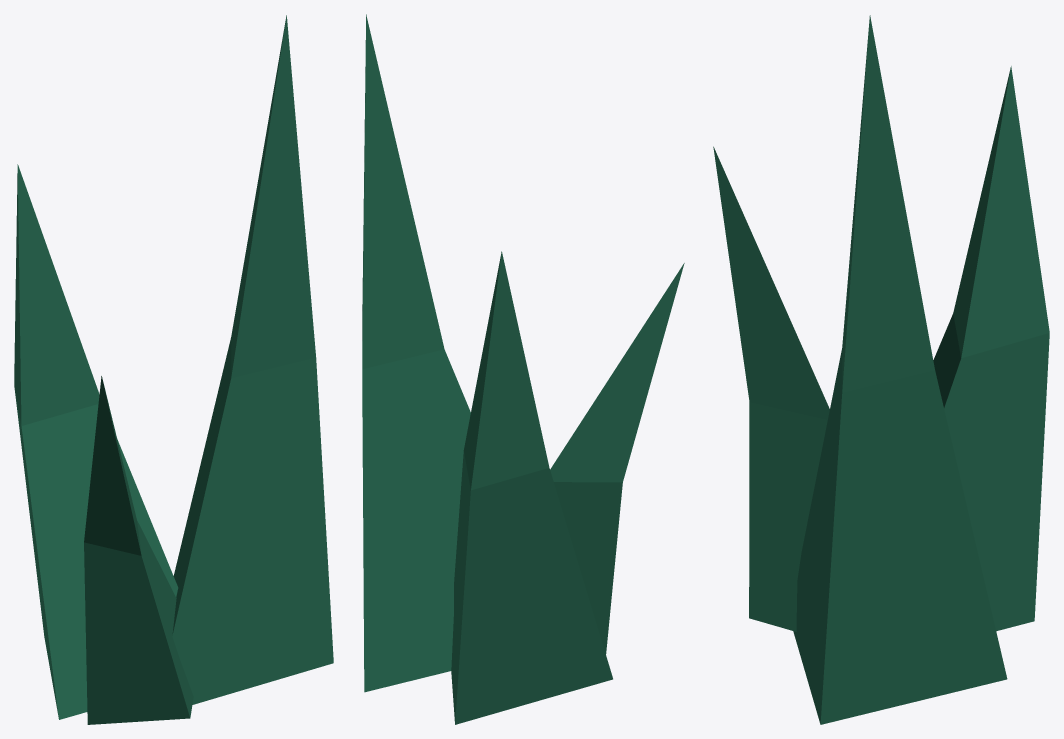
The model's file is PointyGrass.fbx.
3 renders of one model, left to right at view 1: azimuth 30°, elevation 25°; view 2: azimuth 150°, elevation 25°; view 3: azimuth 270°, elevation 25°, orthographic. The views are drawn at different scales.
Visible parts, largest first — view 1: Cone; view 2: Cone; view 3: Cone.
Boxes of the visible parts, <box> form: Cone: <box>14,15,333,724</box>; Cone: <box>362,14,684,724</box>; Cone: <box>713,15,1049,724</box>.
Size of the model in its own units: 53.6 by 56.53 by 123.
